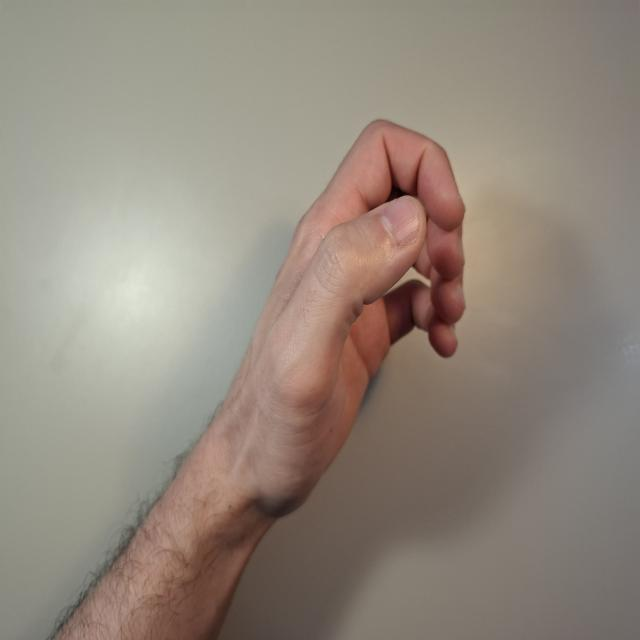glove_off: (221, 114, 468, 535)
